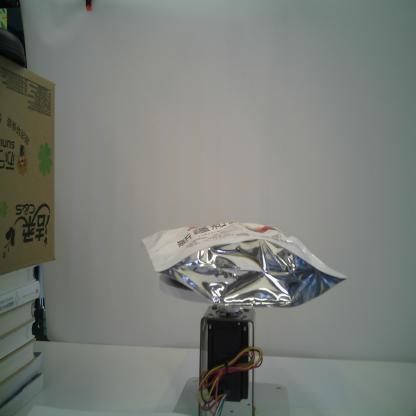Dried Food: (141, 218, 349, 316)
